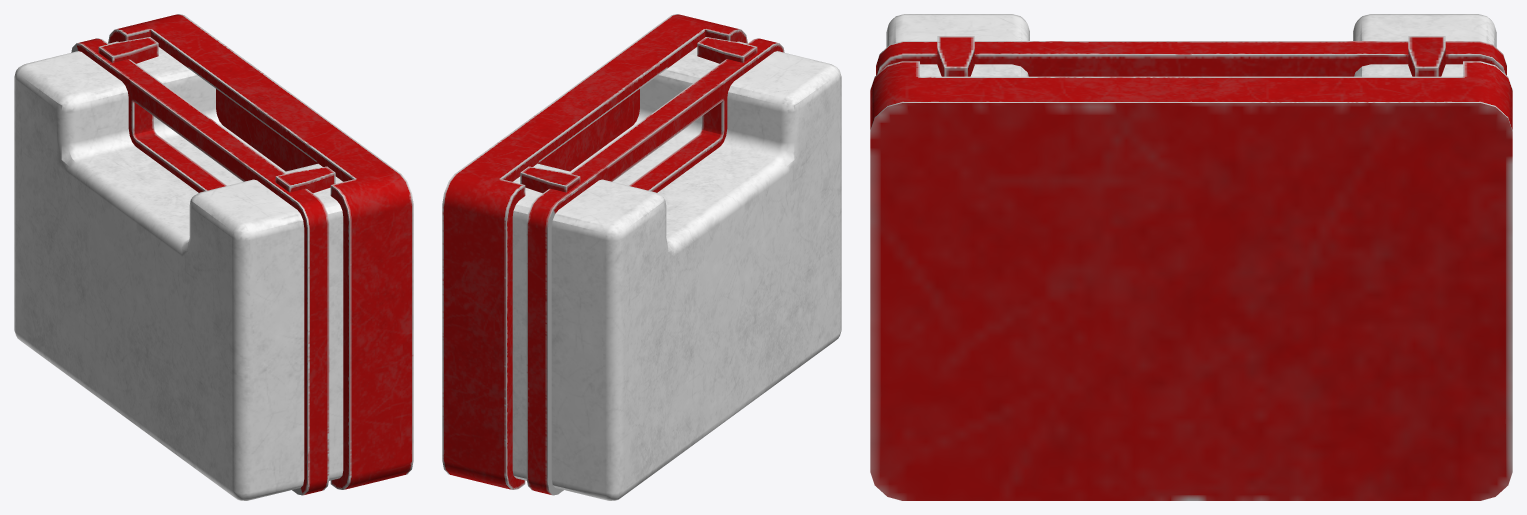
Rendered from CR_First_aid_kit.fbx.
The picture shows the model from 3 angles, left to right: view 1: azimuth 30°, elevation 25°; view 2: azimuth 150°, elevation 25°; view 3: azimuth 270°, elevation 25°; orthographic projection. The views are drawn at different scales.
Parts seen in each view (by area): view 1: First_aid_kit; view 2: First_aid_kit; view 3: First_aid_kit.
Part boxes in pixels (<box>): First_aid_kit: <box>14,14,413,500</box>; First_aid_kit: <box>442,14,841,500</box>; First_aid_kit: <box>870,14,1512,500</box>.
Size of the model in its own units: 28.92 by 49.27 by 71.62.
